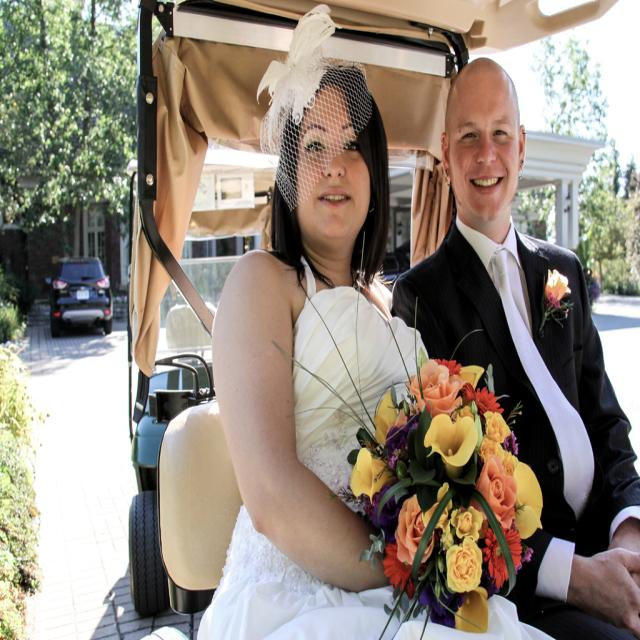car: (39, 256, 105, 336)
